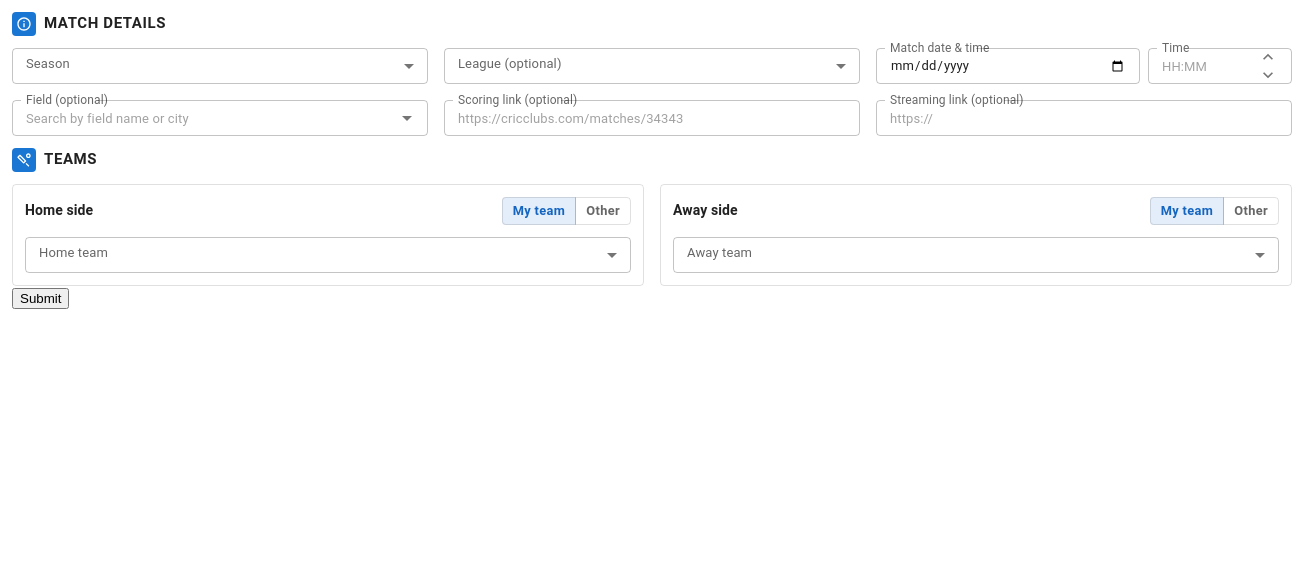
Scenario: MatchForm › switches the home side to a free-text opponent name field via the toggle
# Both toggle groups render an "Other" button — click the first (Home)'s.
Click the 1st button "Other" at (603, 211), box top-left (575, 197), bottom-right (631, 225)
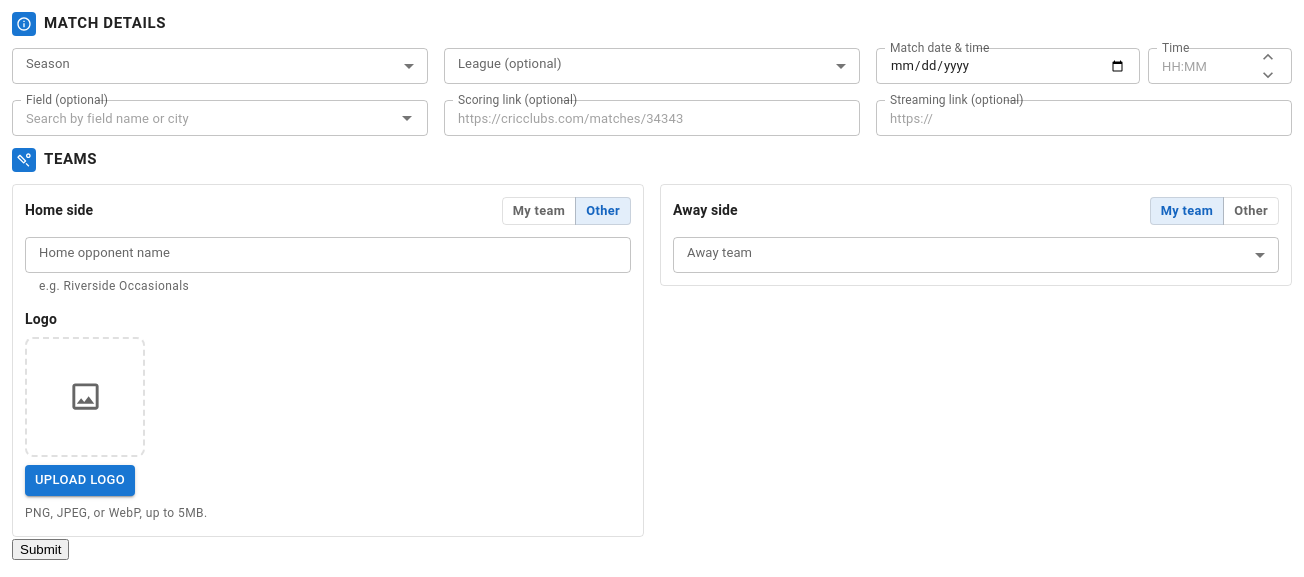
Now the field labelled "Home opponent name" is shown, box top-left (25, 239), bottom-right (631, 271)
Now the label labelled "Home team" is gone
